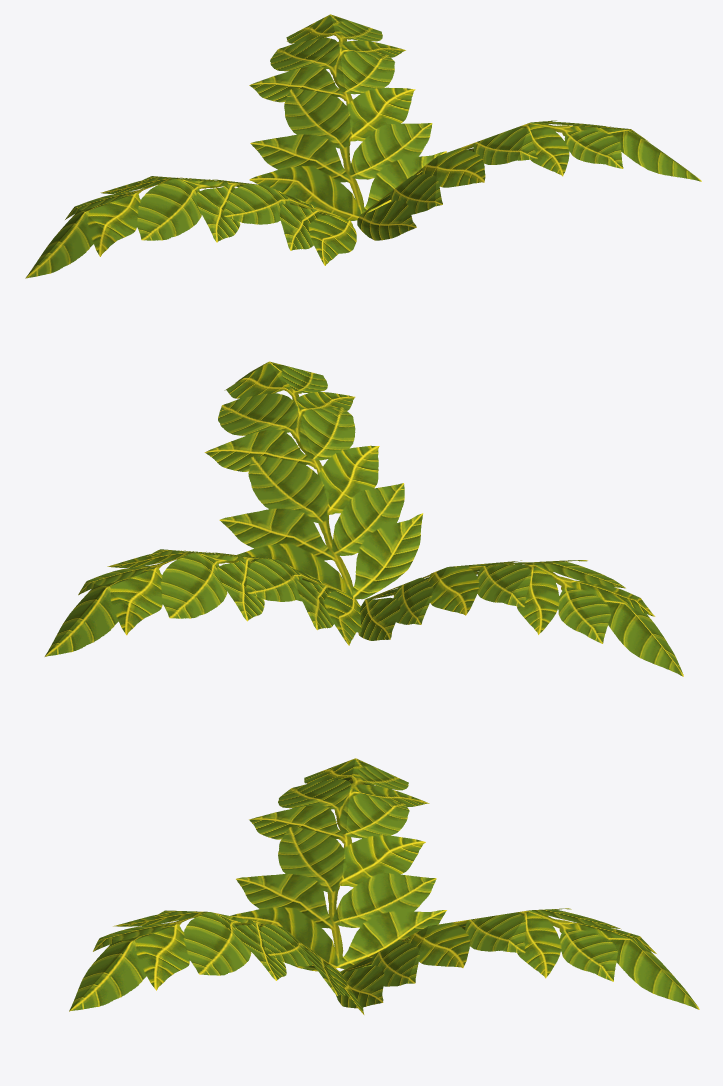
The model's file is PlantMedium.fbx.
3 renders of one model, top to bottom at view 1: azimuth 30°, elevation 25°; view 2: azimuth 150°, elevation 25°; view 3: azimuth 270°, elevation 25°, orthographic. The views are drawn at different scales.
Parts seen in each view (by area): view 1: Agave; view 2: Agave; view 3: Agave.
Part boxes in pixels (x1,y1,x2,y2): Agave: [25, 14, 701, 278]; Agave: [44, 361, 683, 676]; Agave: [69, 758, 699, 1014].
Size of the model in its own units: 2.45 by 0.5328 by 2.26.
